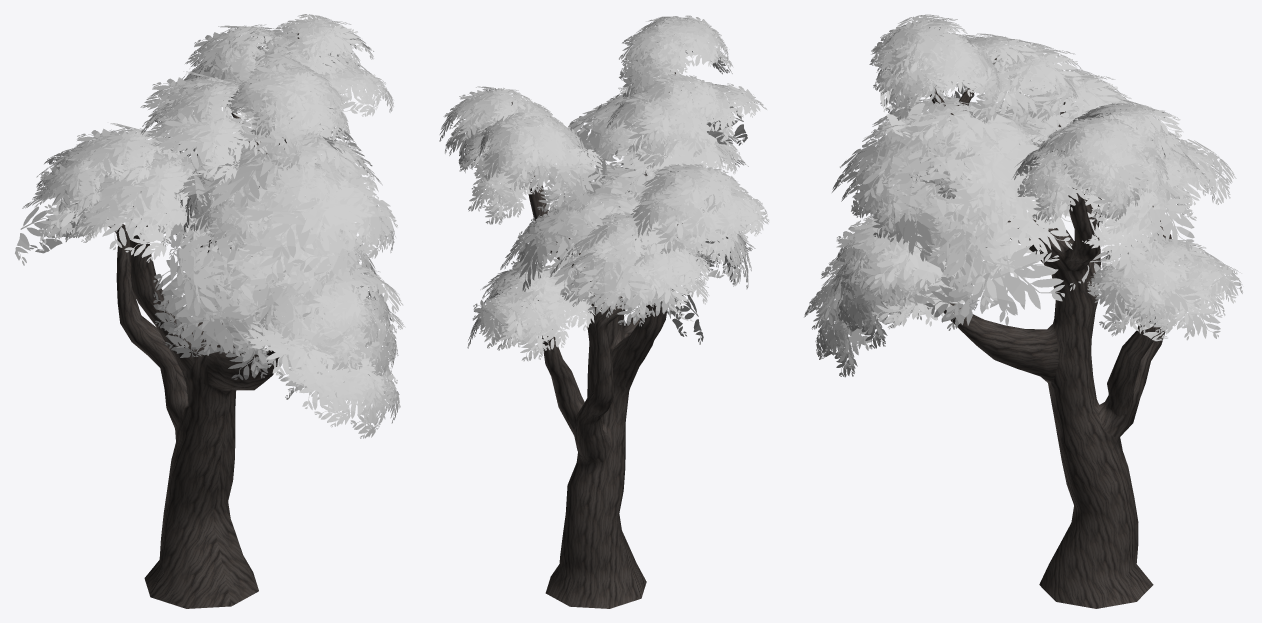
File: tree_03.fbx
3 views of the same model, side by side, from view 1: azimuth 30°, elevation 25°; view 2: azimuth 150°, elevation 25°; view 3: azimuth 270°, elevation 25° (orthographic). The views are drawn at different scales.
Parts seen in each view (by area): view 1: Tree_03_LOD0; view 2: Tree_03_LOD0; view 3: Tree_03_LOD0.
Boxes of the visible parts, left/top/right/bottom form: Tree_03_LOD0: left=15, top=14, right=405, bottom=608; Tree_03_LOD0: left=439, top=15, right=769, bottom=608; Tree_03_LOD0: left=804, top=14, right=1242, bottom=608.
Size of what is drawn, in the model's own units: 14.27 by 22.79 by 16.36.
